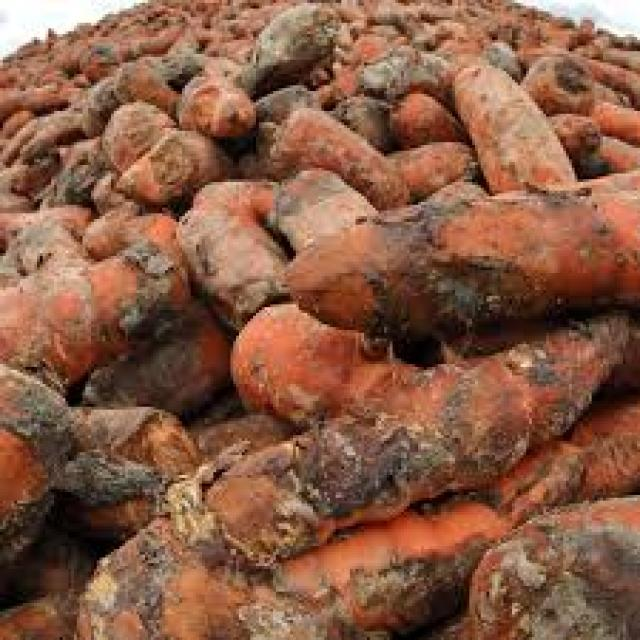Stale_Carrot: (184, 315, 622, 562), (285, 162, 640, 348), (4, 205, 193, 392)
